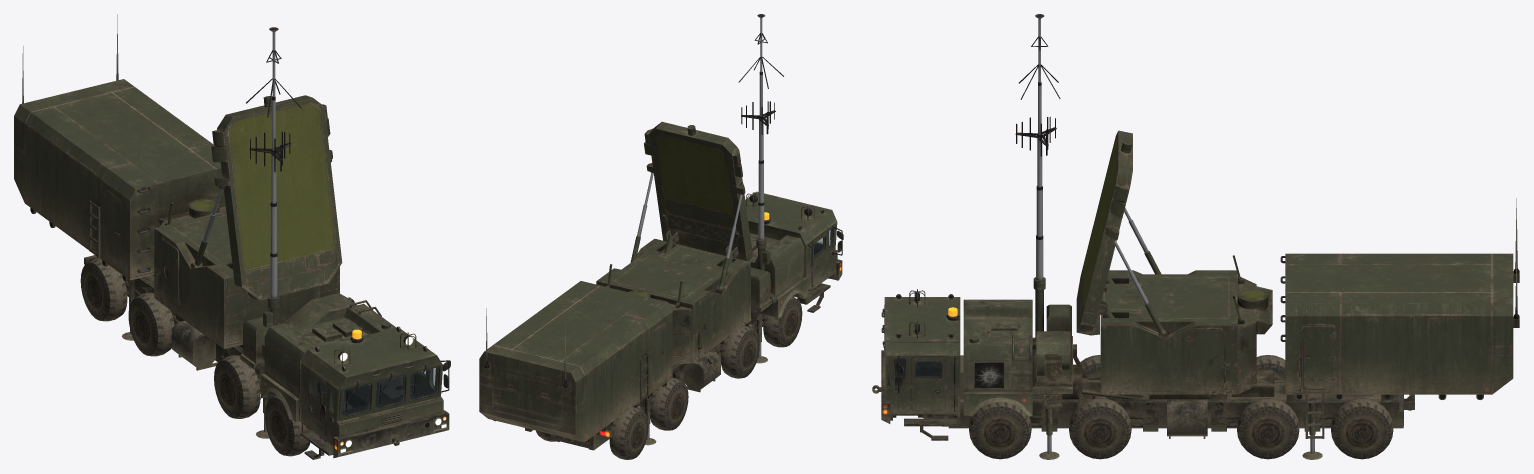
The model's file is s400_radar.glb.
3 views of the same model, side by side, from view 1: azimuth 30°, elevation 25°; view 2: azimuth 150°, elevation 25°; view 3: azimuth 270°, elevation 25° (orthographic). The views are drawn at different scales.
Visible parts, largest first — view 1: Body; view 2: Body; view 3: Body.
Part boxes in pixels (left/top/right/bottom): Body: left=14, top=14, right=450, bottom=459; Body: left=479, top=14, right=843, bottom=459; Body: left=872, top=14, right=1519, bottom=459.
Bounding box in the file's own units: 3.62 × 10.35 × 15.15.
Materials: 4 (4 with a texture image).
